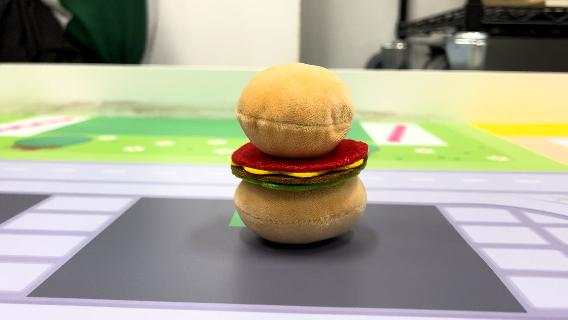burger: (227, 60, 373, 246)
